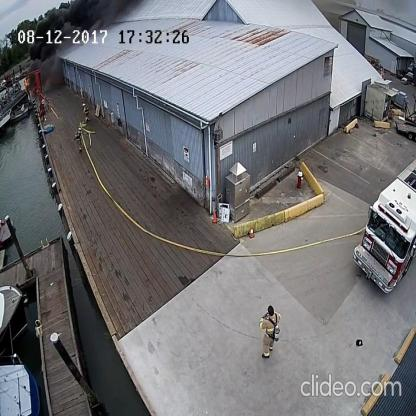fire: (22, 73, 33, 92)
